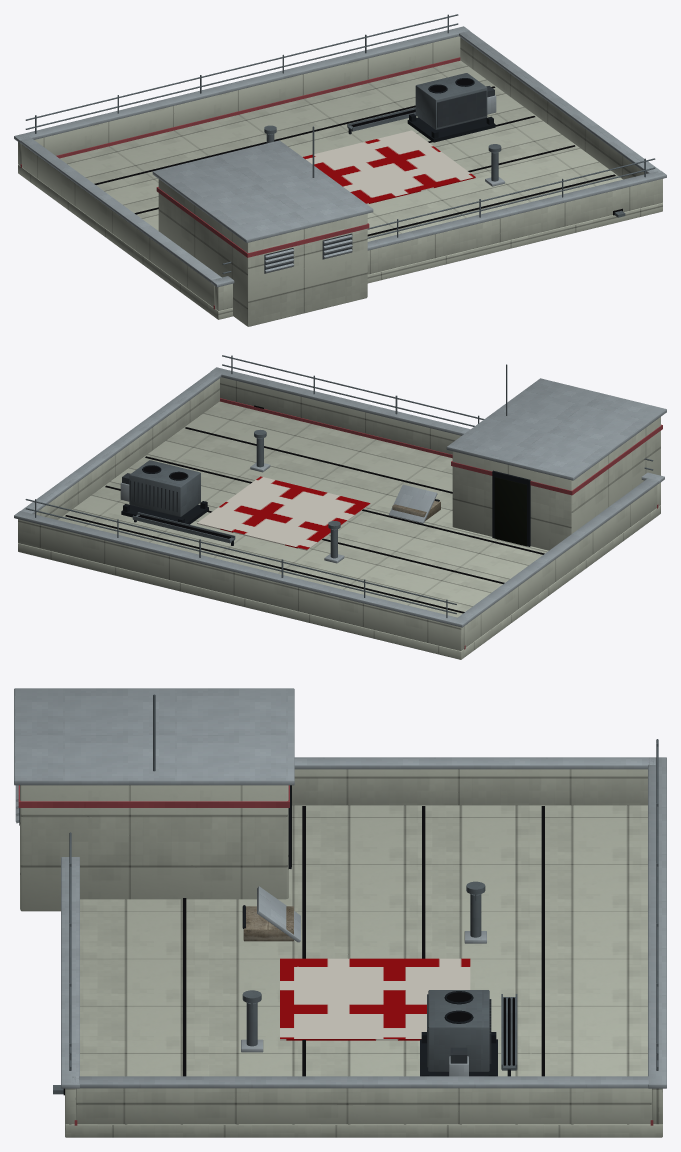
File: fac_medical_roof.glb
The picture shows the model from 3 angles, top to bottom: view 1: azimuth 30°, elevation 25°; view 2: azimuth 150°, elevation 25°; view 3: azimuth 270°, elevation 25°; orthographic projection. The views are drawn at different scales.
Parts seen in each view (by area): view 1: FAC_MEDICAL_ROOF; view 2: FAC_MEDICAL_ROOF; view 3: FAC_MEDICAL_ROOF.
Part boxes in pixels (bbox=[...]): FAC_MEDICAL_ROOF: bbox=[14, 14, 666, 326]; FAC_MEDICAL_ROOF: bbox=[14, 355, 666, 659]; FAC_MEDICAL_ROOF: bbox=[14, 688, 666, 1137].
Bounding box in the file's own units: 13.86 × 4.15 × 11.68.
10 materials, 10 textured.
